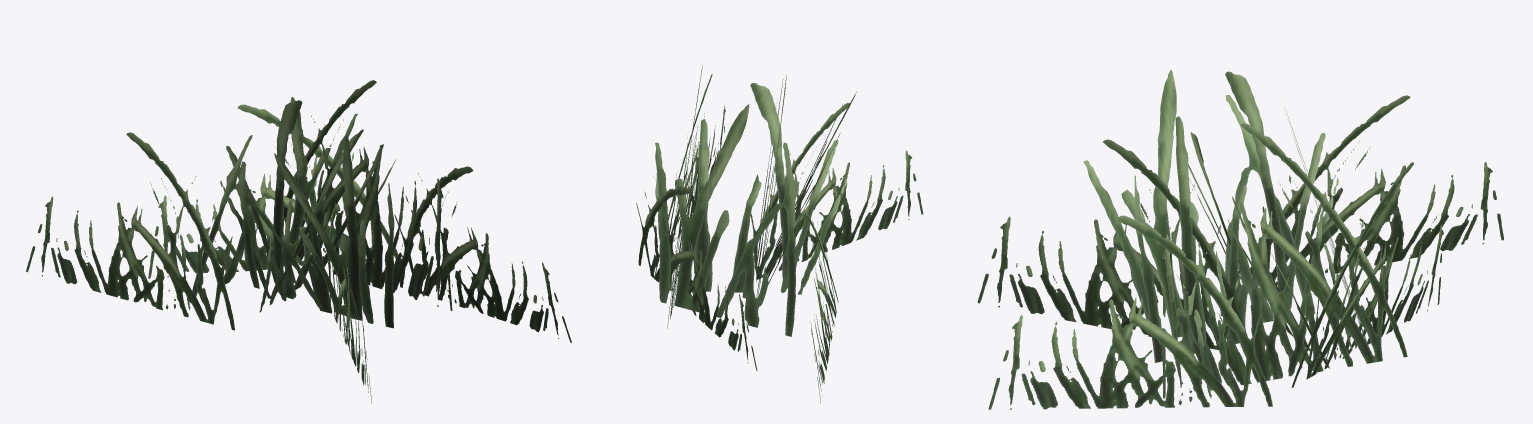
The model's file is Grass_Short_01.fbx.
3 views of the same model, side by side, from view 1: azimuth 30°, elevation 25°; view 2: azimuth 150°, elevation 25°; view 3: azimuth 270°, elevation 25° (orthographic). The views are drawn at different scales.
Parts seen in each view (by area): view 1: pPlane95; view 2: pPlane95; view 3: pPlane95.
Boxes of the visible parts, left/top/right/bottom form: pPlane95: left=26, top=80, right=571, bottom=403; pPlane95: left=636, top=65, right=923, bottom=403; pPlane95: left=977, top=69, right=1503, bottom=409.
Size of the model in its own units: 3.36 by 2.39 by 4.2.
1 material, 1 textured.
